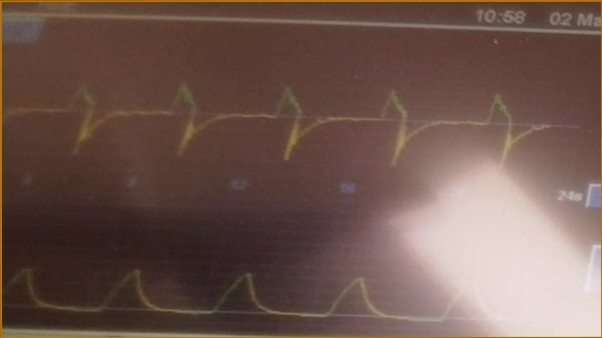Accumulation Flow: (6, 69, 554, 169)
Volume: (4, 243, 526, 327)
